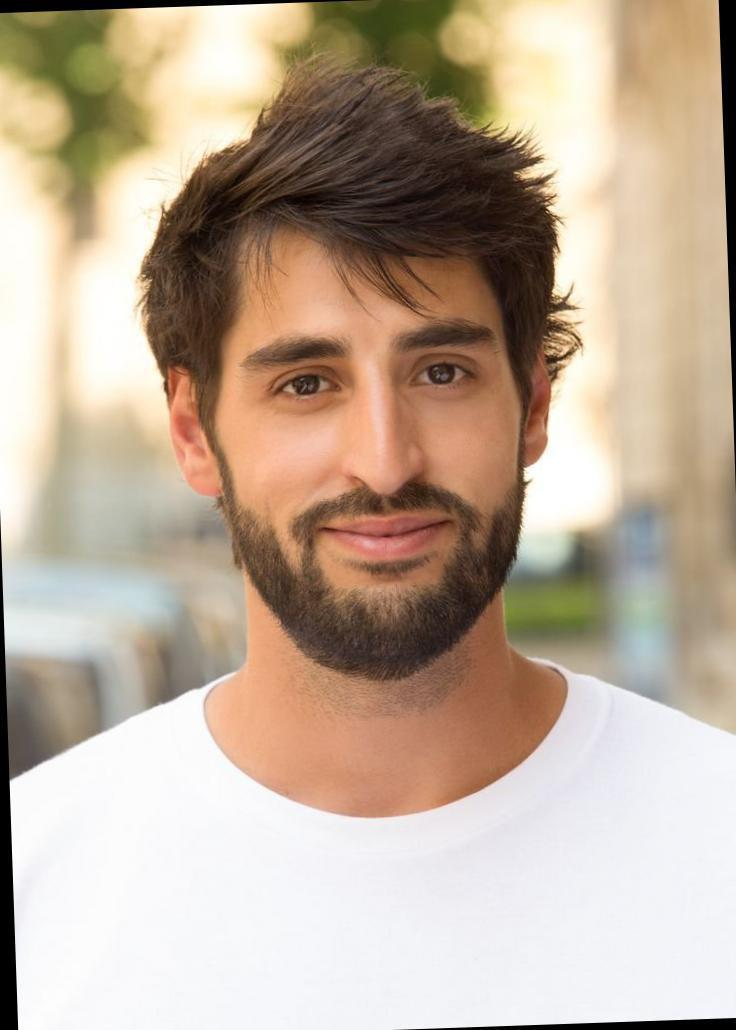Sober: (216, 241, 507, 628)
